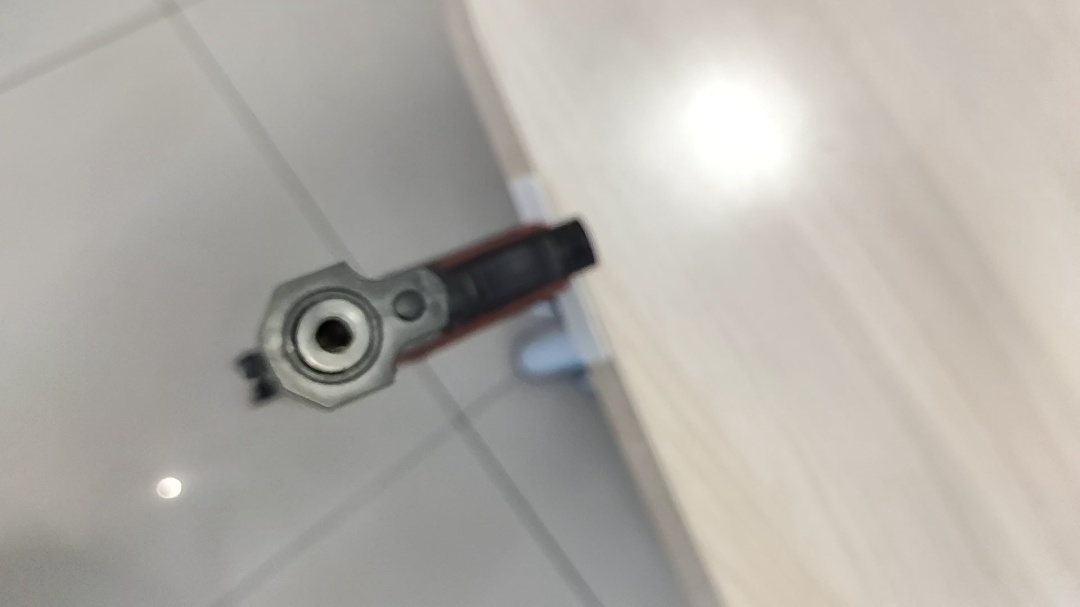gun: (355, 281, 405, 311)
